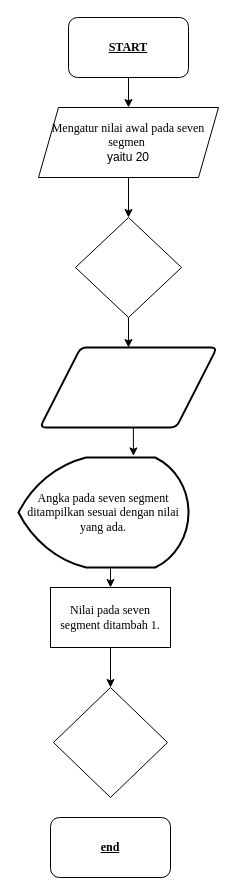
Image size: 236x895. Some labels were removed from this diagram. Here are the shapes that lost their labels. From the top down, the box of each, then its label:
(74, 216, 182, 318): Tekan tombol ya /tidak
(38, 346, 218, 428): lakukan pengecekan untuk count down
(52, 686, 168, 798): Apakah Nilai ,<= 0?
